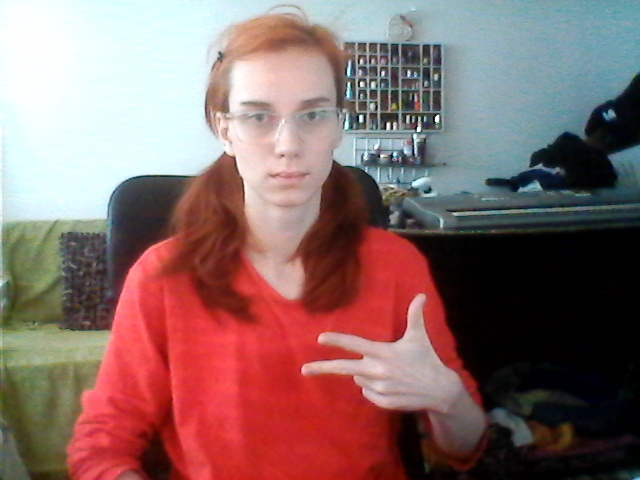tri: (295, 293, 458, 420)
